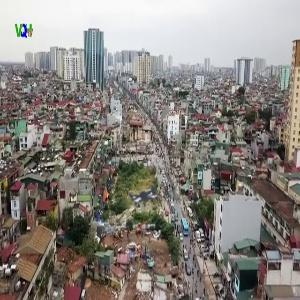drone: (106, 157, 183, 234)
